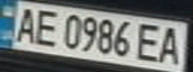0: (57, 11, 84, 51)
6: (112, 18, 139, 58)
8: (97, 16, 118, 56)
9: (78, 14, 100, 53)
A: (9, 3, 42, 44), (154, 24, 187, 65)
E: (133, 20, 166, 63), (30, 7, 63, 47)
